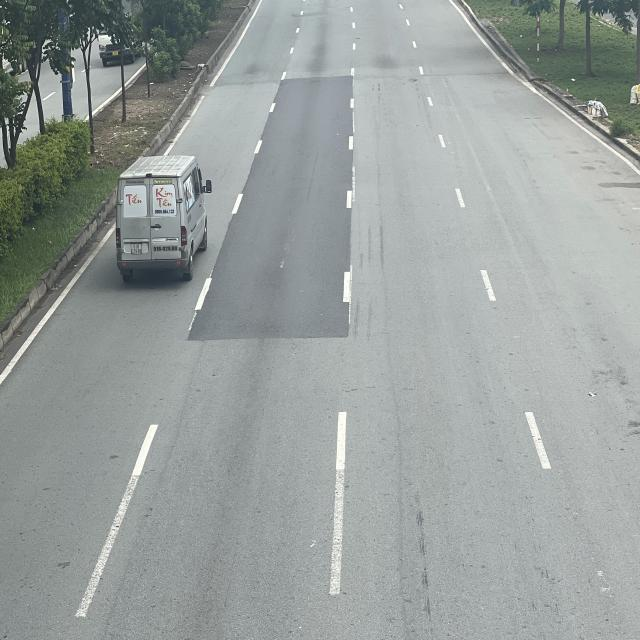van: (115, 155, 213, 283)
